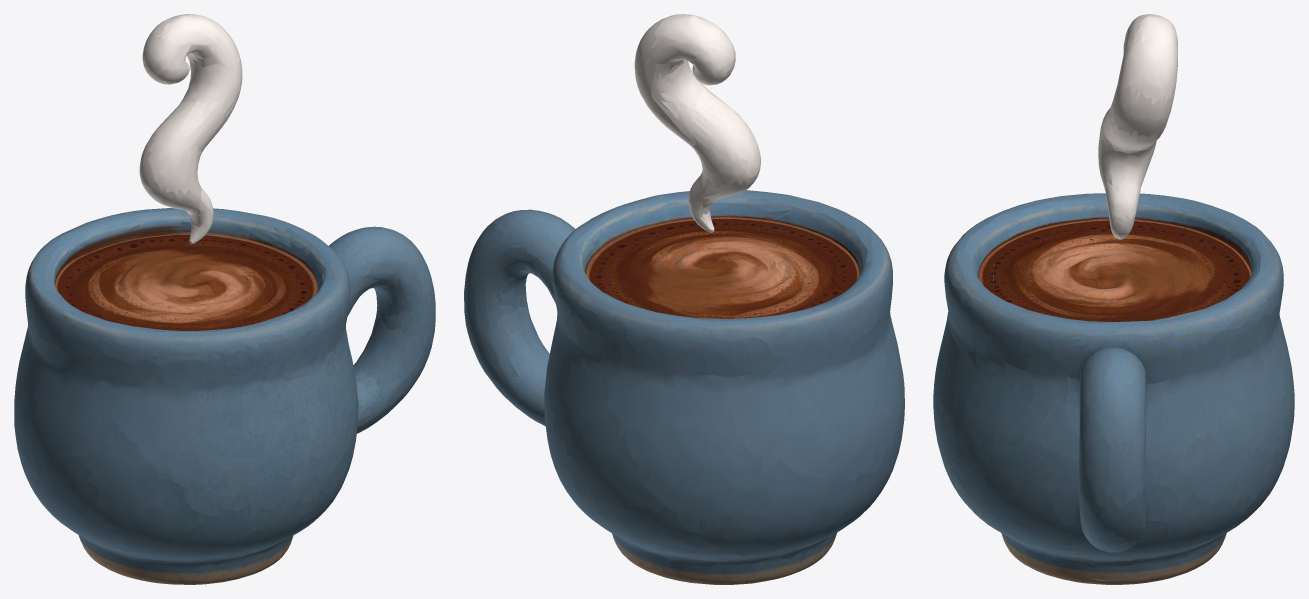
File: props_kuppi.glb
3 views of the same model, side by side, from view 1: azimuth 30°, elevation 25°; view 2: azimuth 150°, elevation 25°; view 3: azimuth 270°, elevation 25° (orthographic). The views are drawn at different scales.
Parts seen in each view (by area): view 1: output_unwrapped; view 2: output_unwrapped; view 3: output_unwrapped.
Part boxes in pixels (<box>): output_unwrapped: <box>14,14,435,584</box>; output_unwrapped: <box>464,14,904,584</box>; output_unwrapped: <box>933,14,1294,584</box>.
Bounding box in the file's own units: 0.0564 × 0.07 × 0.0431.
1 material, 1 textured.
